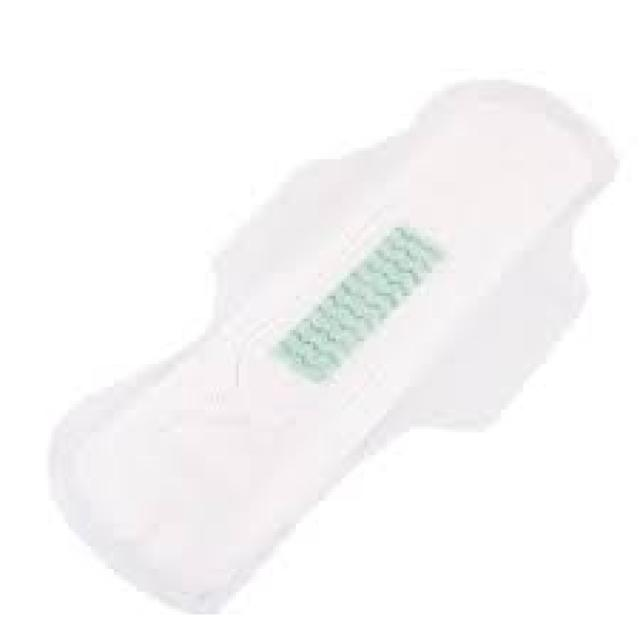napkin: (51, 82, 615, 610)
